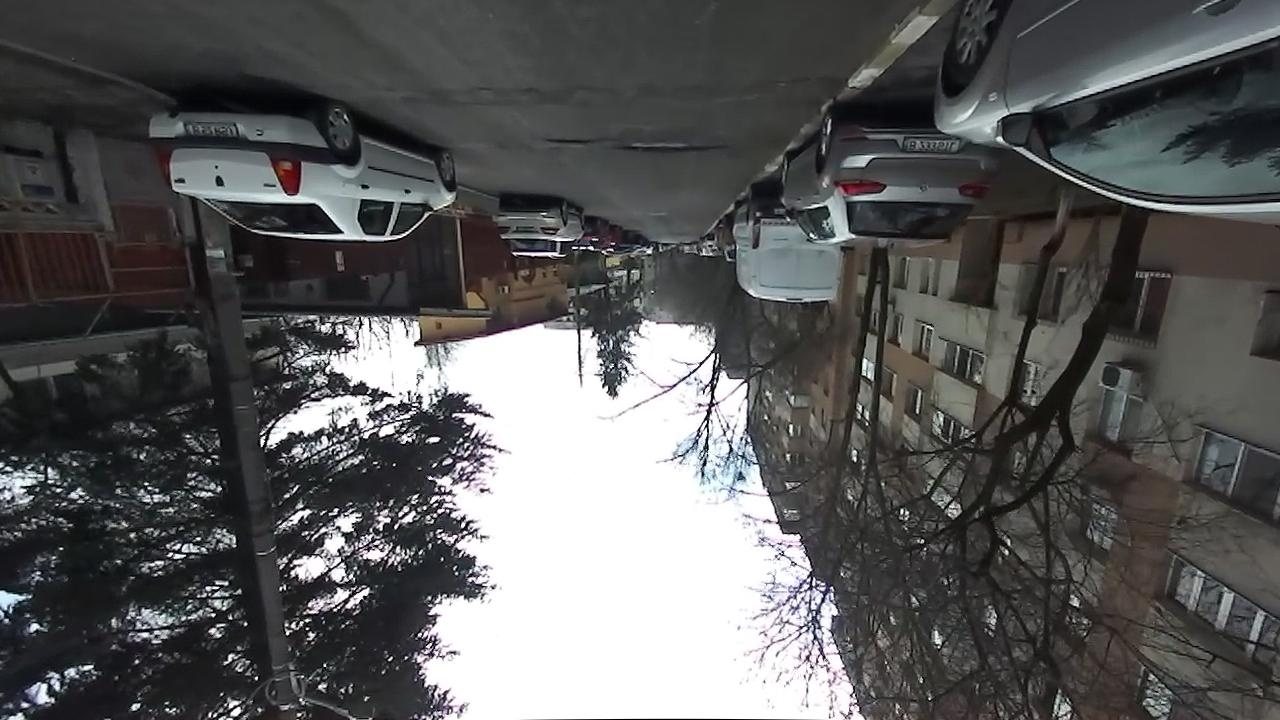pothole: (616, 140, 732, 156), (543, 136, 606, 148)
